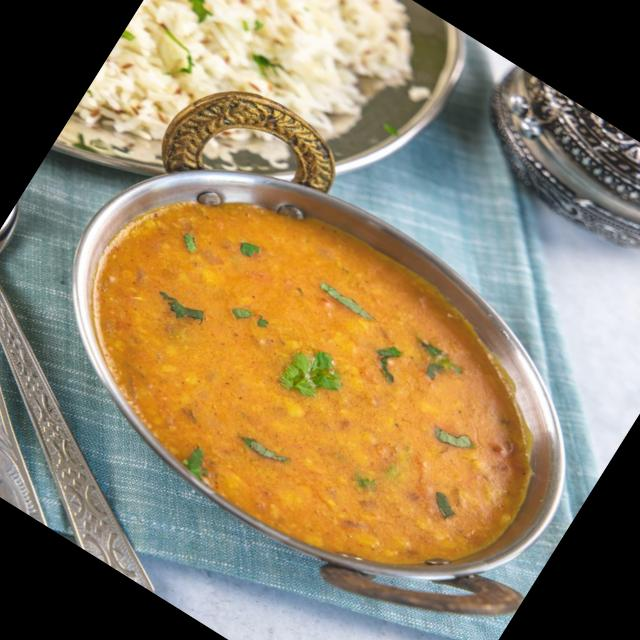dal: (26, 123, 596, 634)
rice: (58, 0, 443, 277)
